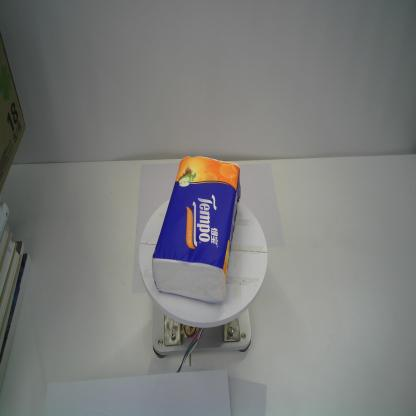Tissue: (150, 154, 243, 307)
